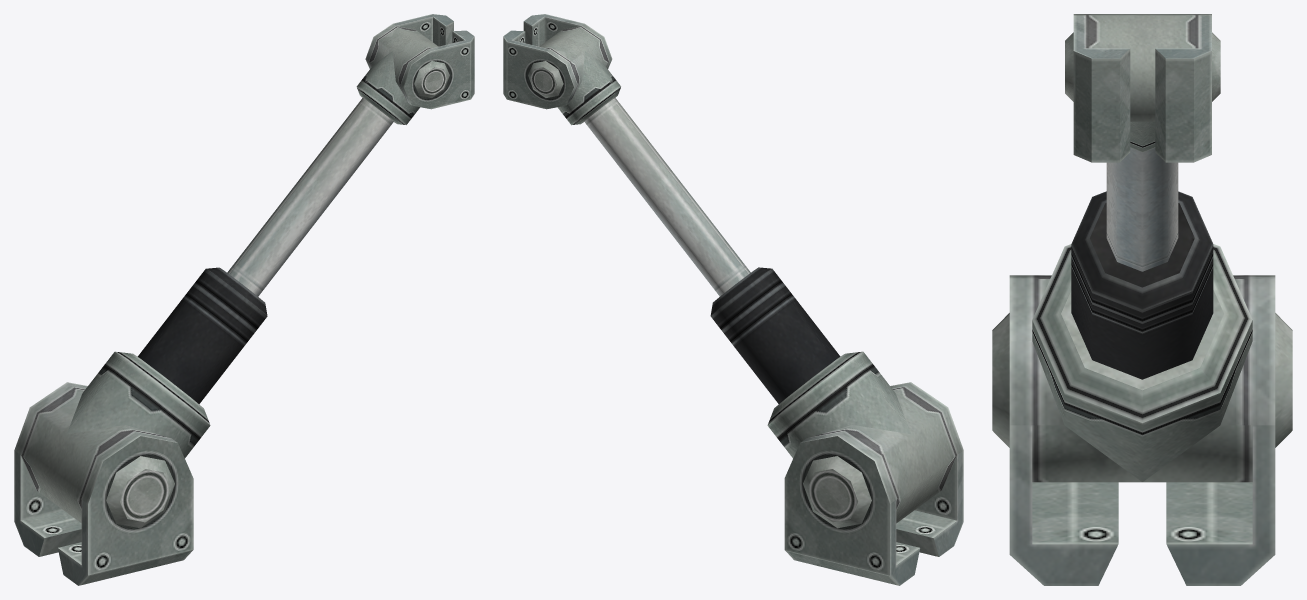
The model's file is Hydraulic_diagonal_tall.FBX.
3 renders of one model, left to right at view 1: azimuth 30°, elevation 25°; view 2: azimuth 150°, elevation 25°; view 3: azimuth 270°, elevation 25°, orthographic. The views are drawn at different scales.
Parts seen in each view (by area): view 1: Hydraulic_diagonal_tall; view 2: Hydraulic_diagonal_tall; view 3: Hydraulic_diagonal_tall.
Part boxes in pixels (x1=…): Hydraulic_diagonal_tall: x1=14, y1=14, x2=474, y2=585; Hydraulic_diagonal_tall: x1=503, y1=14, x2=963, y2=585; Hydraulic_diagonal_tall: x1=992, y1=14, x2=1292, y2=585.
Bounding box in the file's own units: 301 × 309 × 106.
